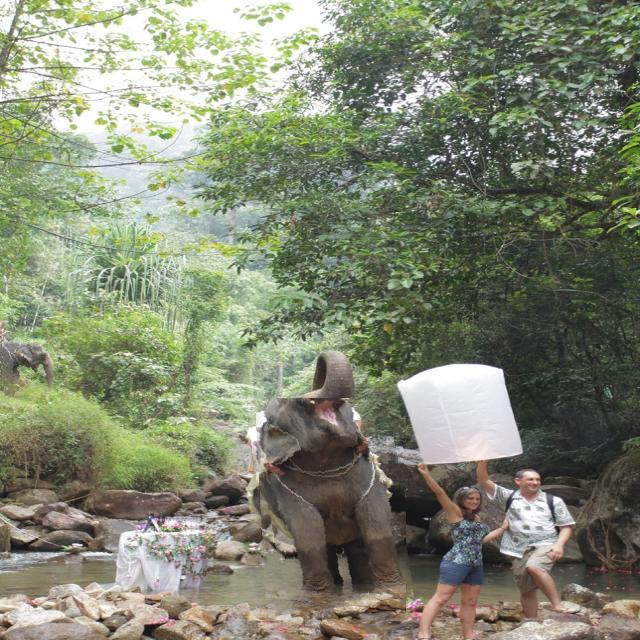elephant: (254, 398, 406, 612), (0, 332, 58, 395)
